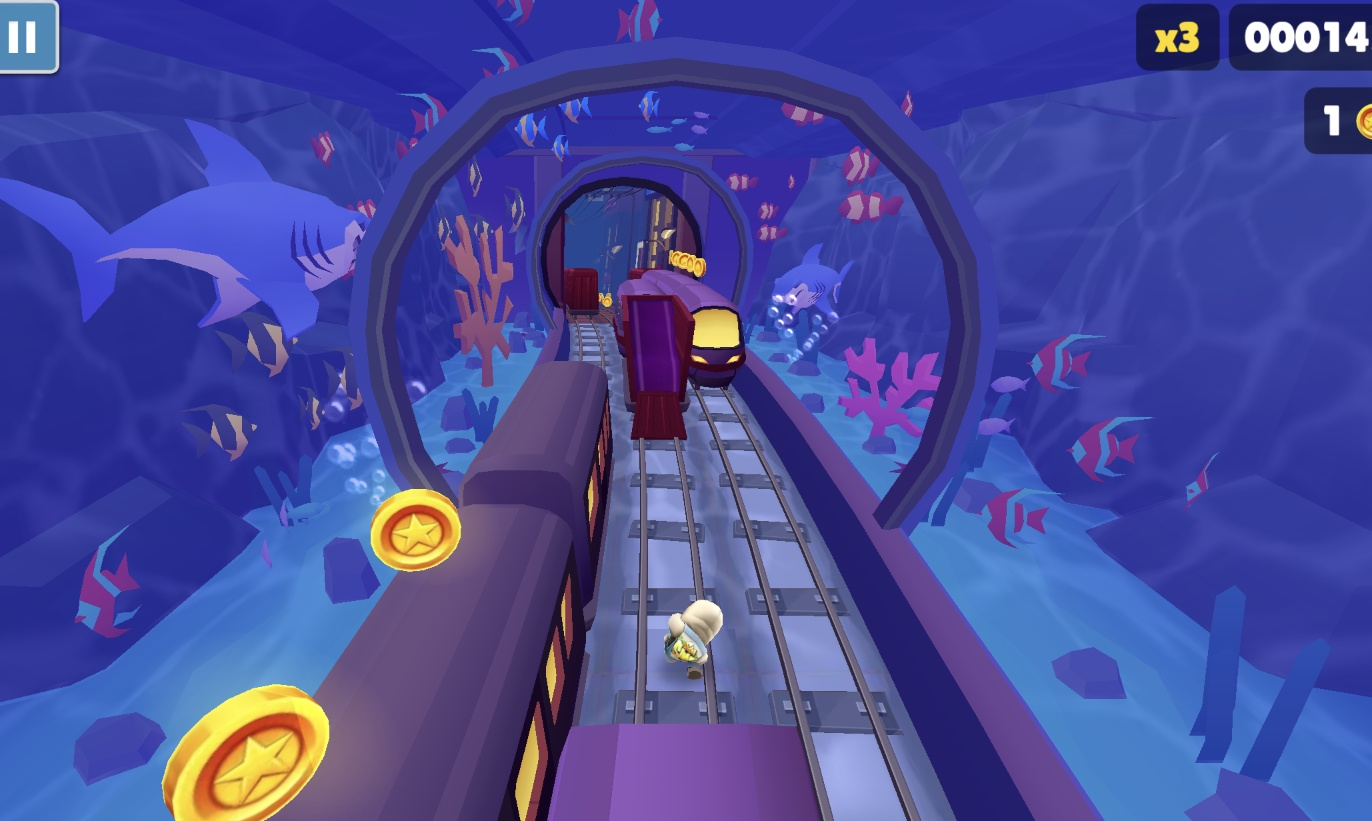train: (160, 358, 621, 821), (610, 720, 838, 821), (614, 271, 692, 444), (646, 268, 753, 388), (559, 266, 601, 318)
